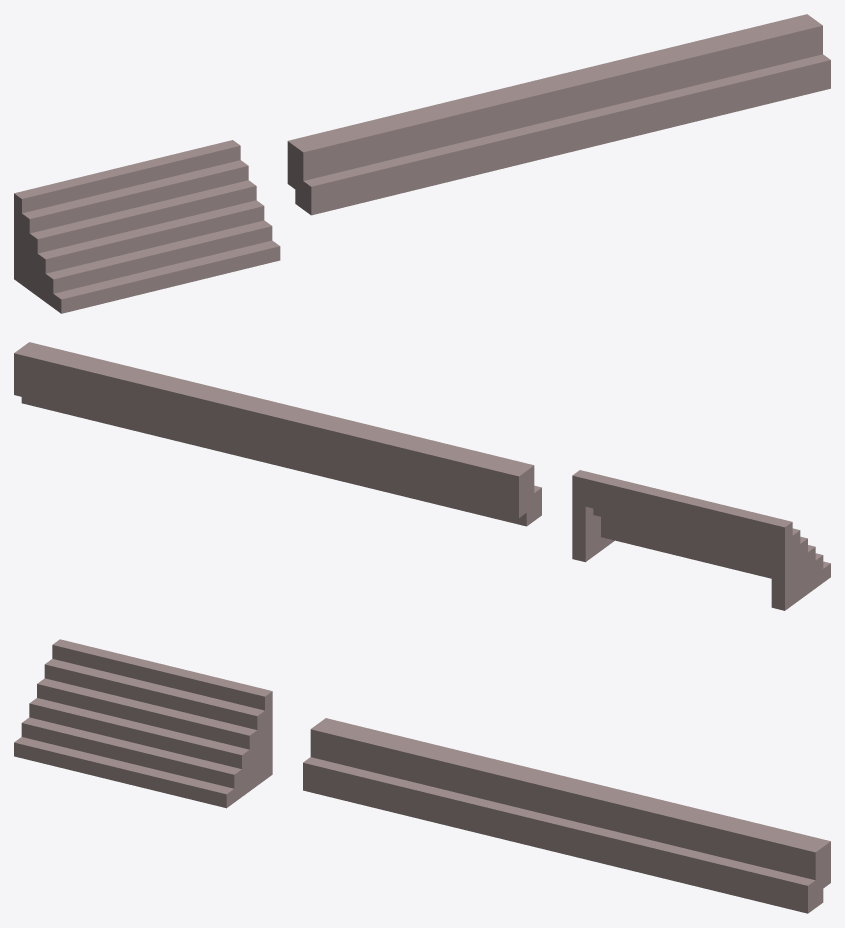
File: Disciplina tende.obj
3 renders of one model, top to bottom at view 1: azimuth 30°, elevation 25°; view 2: azimuth 150°, elevation 25°; view 3: azimuth 330°, elevation 25°, orthographic. The views are drawn at different scales.
Bounding box in the file's own units: 5.8 × 0.6 × 0.6.
Materials: 1 (1 with a texture image).
